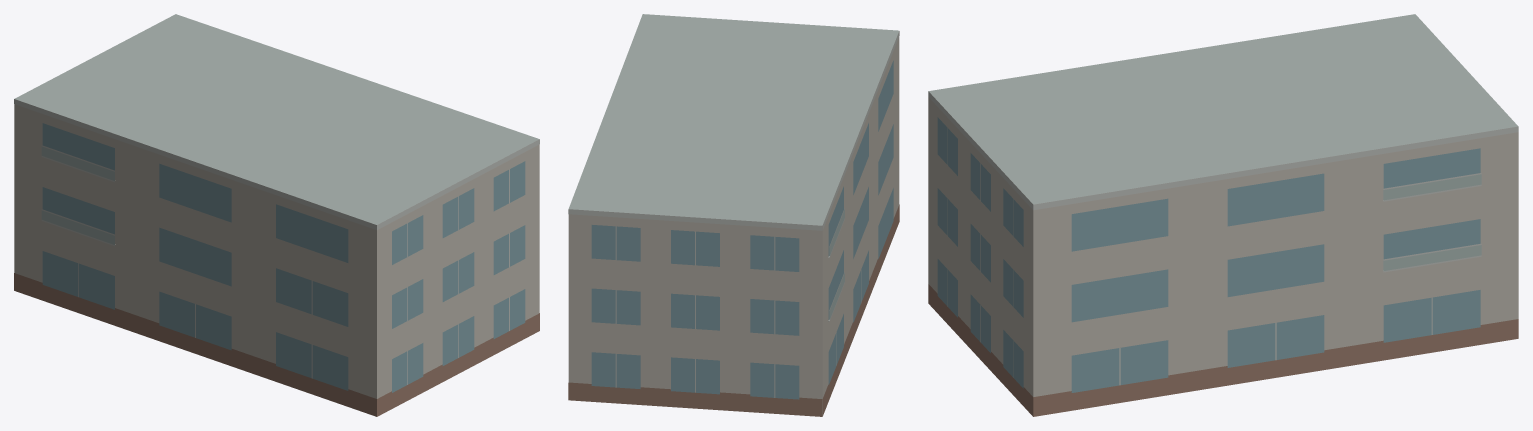
Rendered from survey-upis-32826326.glb.
3 renders of one model, left to right at view 1: azimuth 30°, elevation 25°; view 2: azimuth 150°, elevation 25°; view 3: azimuth 270°, elevation 25°, orthographic. The views are drawn at different scales.
Visible parts, largest first — view 1: survey-upis-32826326.tmp; view 2: survey-upis-32826326.tmp; view 3: survey-upis-32826326.tmp.
Part boxes in pixels (bbox=[...]): survey-upis-32826326.tmp: bbox=[14, 14, 539, 416]; survey-upis-32826326.tmp: bbox=[568, 14, 899, 416]; survey-upis-32826326.tmp: bbox=[928, 14, 1518, 416].
Bounding box in the file's own units: 17.64 × 9.15 × 23.07.
